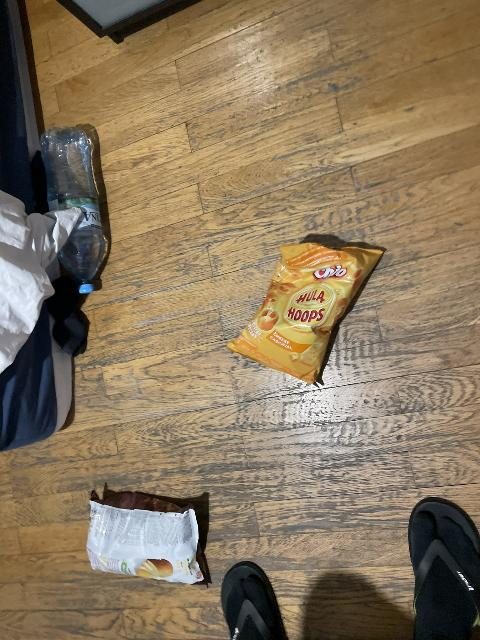Chio Hula Hoops Cheese 70g: (223, 239, 385, 386)
Lays Beef Grilled Ribs 125g: (86, 497, 206, 584)
